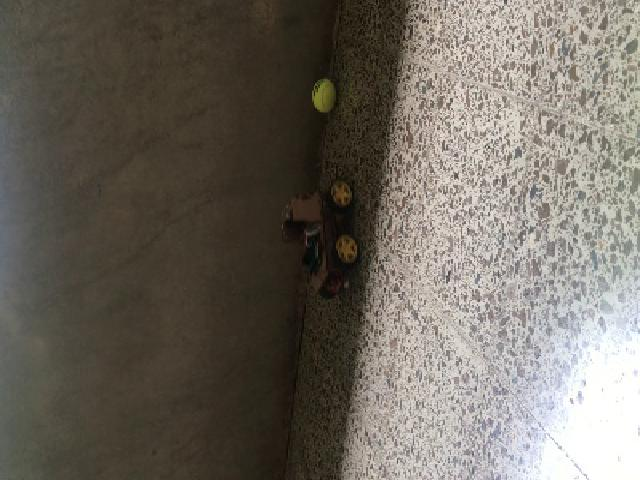Ball: (310, 78, 333, 112)
Robot: (277, 179, 360, 299)
